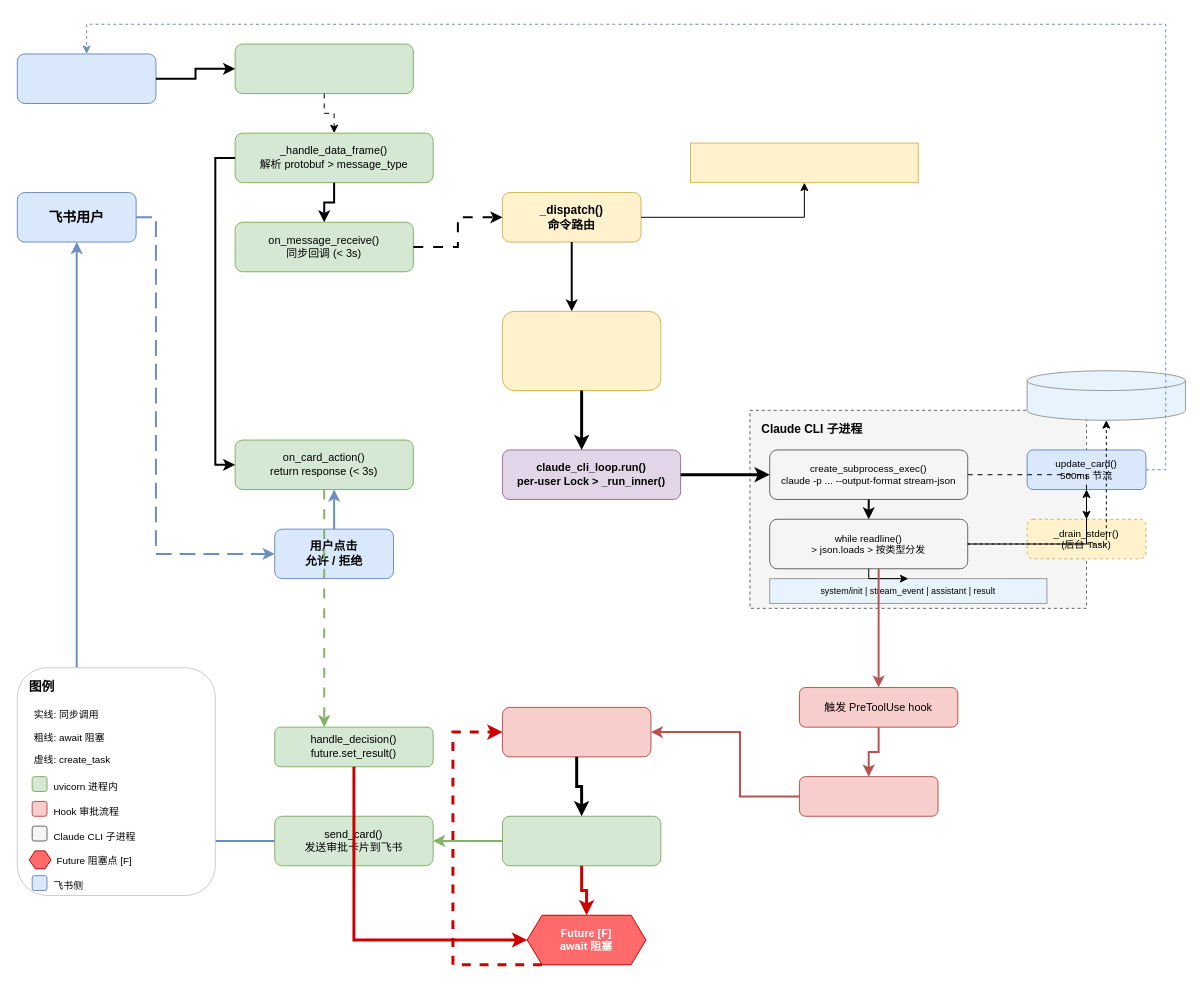
Image size: 1203x991. Some labels were removed from this diagram. Each missing label, with the centre of its shape:
"/start /stop /status /model /mode /pwd /resume /continue" goes at point 804,162.
"_receive_message_loop() (常驻后台 Task)" goes at point 323,68.
"_run_claude() 路径A: 手动model 路径B: 首次>分类>审批 路径C: resume恢复" goes at point 581,350.
"approval_manager .request_tool_approval()" goes at point 581,840.
"HTTP POST /hooks/pre_tool_use" goes at point 576,731.
"pre_tool_use.py (独立子进程)" goes at point 868,796.
"session_registry session_id > open_id" goes at point 1106,395.
"飞书服务器 (WebSocket 长连接)" goes at point 86,78.
